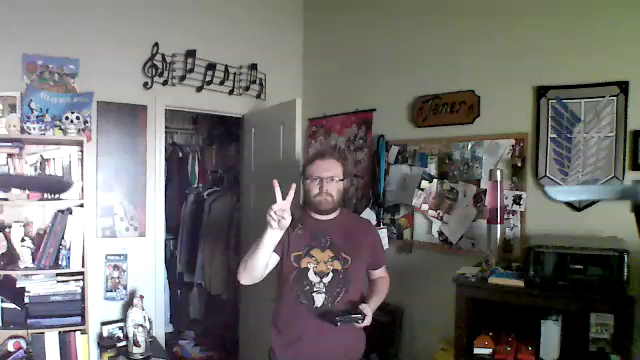peace: (258, 176, 308, 233)
